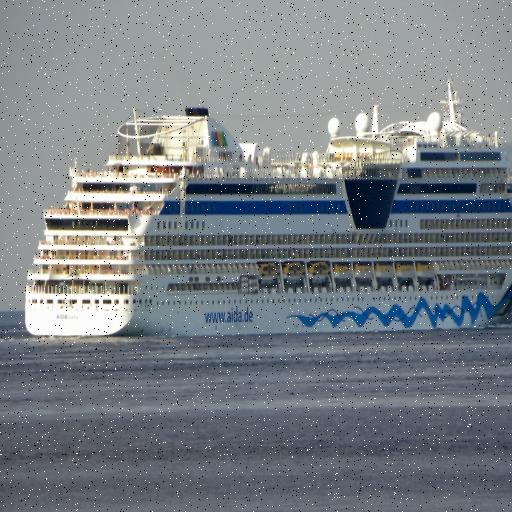cruises: (20, 77, 512, 344)
